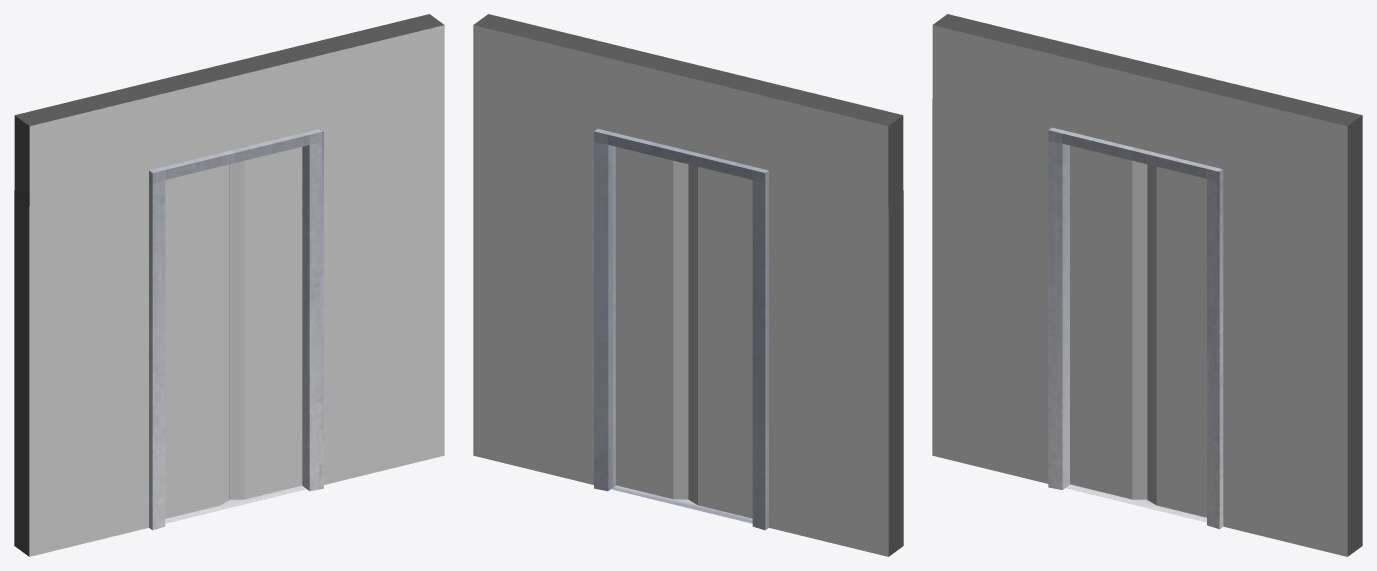
The model's file is door.fbx.
The picture shows the model from 3 angles, left to right: view 1: azimuth 30°, elevation 25°; view 2: azimuth 150°, elevation 25°; view 3: azimuth 330°, elevation 25°; orthographic projection.
Parts seen in each view (by area): view 1: DoorGate, RightDoor, LeftDoor; view 2: DoorGate, RightDoor, LeftDoor; view 3: DoorGate, LeftDoor, RightDoor.
Part boxes in pixels (box(x1,y1,x2,y2)): DoorGate: box(14, 14, 444, 556); RightDoor: box(229, 146, 302, 499); LeftDoor: box(165, 164, 229, 518); DoorGate: box(473, 14, 903, 556); RightDoor: box(615, 146, 688, 499); LeftDoor: box(688, 164, 752, 518); DoorGate: box(932, 14, 1362, 556); LeftDoor: box(1070, 145, 1147, 499); RightDoor: box(1147, 164, 1206, 517).
Bounding box in the file's own units: 849 × 842 × 79.05.
Materials: 4 (1 with a texture image).
